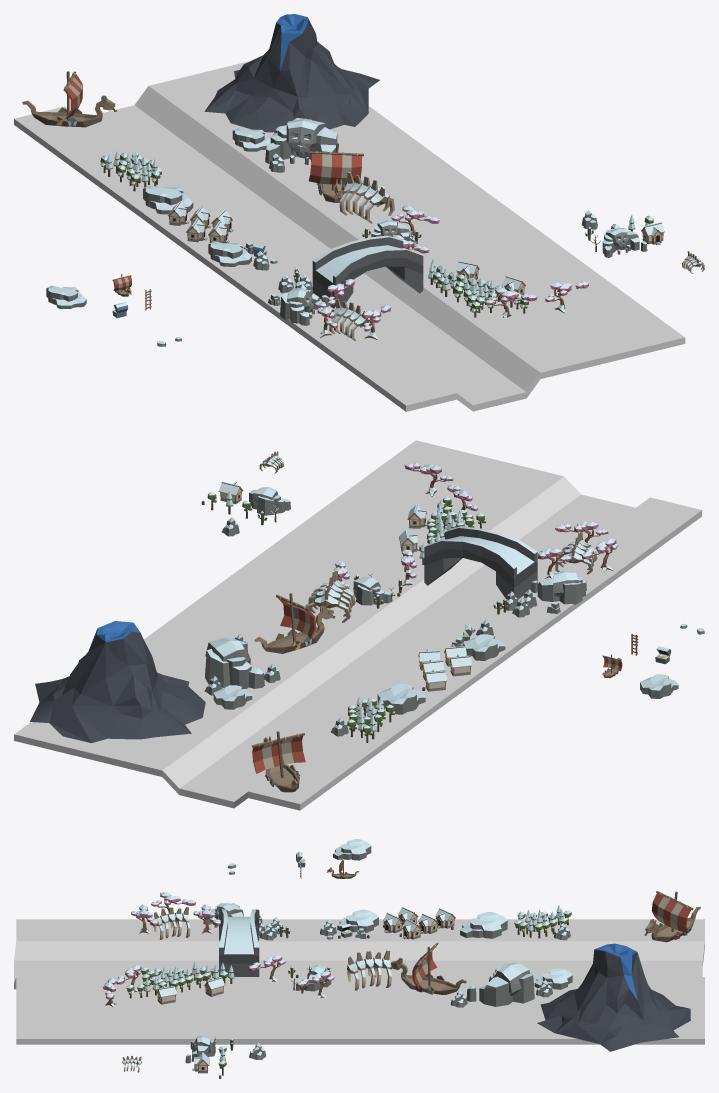
Rendered from chi menn.fbx.
3 renders of one model, top to bottom at view 1: azimuth 30°, elevation 25°; view 2: azimuth 150°, elevation 25°; view 3: azimuth 270°, elevation 25°, orthographic. The views are drawn at different scales.
Visible parts, largest first — view 1: 平面, SM_Tile_Hex_Mountain_05_924, SM_Prop_Generic_Bridge_01_Snow_1366, SM_Env_Pirate_SkullRock_01_Snow_1330.002, SM_Prop_Viking_Boat_01_652.001, SM_Prop_Viking_Boat_01_652.002, SM_Env_Dungeon_Bones_01_Snow_1240.002, SM_Env_Pirate_SkullRock_01_Snow_1330.003, SM_Env_Generic_Cliffs_02_Snow_1268.003, SM_Env_Pirate_SkullRock_01_Snow_1330, SM_Env_Dungeon_Bones_01_Snow_1240.001, SM_Env_Generic_Cliffs_02_Snow_1268.001 (+2 smaller); view 2: 平面, SM_Tile_Hex_Mountain_05_924, SM_Prop_Generic_Bridge_01_Snow_1366, SM_Env_Pirate_SkullRock_01_Snow_1330.002, SM_Prop_Viking_Boat_01_652.002, SM_Prop_Viking_Boat_01_652.001, SM_Env_Pirate_SkullRock_01_Snow_1330.003, SM_Env_Dungeon_Bones_01_Snow_1240.002, SM_Env_Generic_Cliffs_02_Snow_1268.003, SM_Env_Pirate_SkullRock_01_Snow_1330, SM_Env_Generic_Cliffs_02_Snow_1268.001, SM_Env_Pirate_SkullRock_01_Snow_1330.001 (+3 smaller); view 3: 平面, SM_Tile_Hex_Mountain_05_924, SM_Prop_Generic_Bridge_01_Snow_1366, SM_Env_Pirate_SkullRock_01_Snow_1330.002, SM_Prop_Viking_Boat_01_652.002, SM_Prop_Viking_Boat_01_652.001, SM_Env_Dungeon_Bones_01_Snow_1240.002, SM_Env_Generic_Cliffs_02_Snow_1268.003, SM_Env_Dungeon_Bones_01_Snow_1240.001, SM_Env_Generic_Cliffs_02_Snow_1268.001, SM_Env_Generic_Cliffs_02_Snow_1268, SM_Env_Generic_Cliffs_02_Snow_1268.002 (+2 smaller).
Part boxes in pixels (x1=…): 平面: x1=14, y1=61, x2=685, y2=411; SM_Tile_Hex_Mountain_05_924: x1=204, y1=14, x2=379, y2=132; SM_Prop_Generic_Bridge_01_Snow_1366: x1=312, y1=235, x2=423, y2=308; SM_Env_Pirate_SkullRock_01_Snow_1330.002: x1=265, y1=118, x2=337, y2=164; SM_Prop_Viking_Boat_01_652.001: x1=308, y1=143, x2=363, y2=202; SM_Prop_Viking_Boat_01_652.002: x1=22, y1=71, x2=116, y2=127; SM_Env_Dungeon_Bones_01_Snow_1240.002: x1=339, y1=172, x2=394, y2=223; SM_Env_Pirate_SkullRock_01_Snow_1330.003: x1=280, y1=288, x2=328, y2=325; SM_Env_Generic_Cliffs_02_Snow_1268.003: x1=143, y1=185, x2=193, y2=214; SM_Env_Pirate_SkullRock_01_Snow_1330: x1=602, y1=228, x2=647, y2=257; SM_Env_Dungeon_Bones_01_Snow_1240.001: x1=329, y1=298, x2=374, y2=340; SM_Env_Generic_Cliffs_02_Snow_1268.001: x1=208, y1=241, x2=251, y2=266; 平面: x1=14, y1=440, x2=702, y2=810; SM_Tile_Hex_Mountain_05_924: x1=30, y1=621, x2=205, y2=743; SM_Prop_Generic_Bridge_01_Snow_1366: x1=424, y1=526, x2=537, y2=599; SM_Env_Pirate_SkullRock_01_Snow_1330.002: x1=205, y1=637, x2=264, y2=688; SM_Prop_Viking_Boat_01_652.002: x1=252, y1=731, x2=305, y2=792; SM_Prop_Viking_Boat_01_652.001: x1=254, y1=593, x2=335, y2=653; SM_Env_Pirate_SkullRock_01_Snow_1330.003: x1=530, y1=570, x2=586, y2=604; SM_Env_Dungeon_Bones_01_Snow_1240.002: x1=305, y1=571, x2=355, y2=622; SM_Env_Generic_Cliffs_02_Snow_1268.003: x1=377, y1=684, x2=425, y2=714; SM_Env_Pirate_SkullRock_01_Snow_1330: x1=249, y1=487, x2=290, y2=515; SM_Env_Generic_Cliffs_02_Snow_1268.001: x1=463, y1=634, x2=505, y2=660; SM_Env_Pirate_SkullRock_01_Snow_1330.001: x1=353, y1=577, x2=391, y2=605; 平面: x1=14, y1=919, x2=704, y2=1044; SM_Tile_Hex_Mountain_05_924: x1=537, y1=943, x2=690, y2=1051; SM_Prop_Generic_Bridge_01_Snow_1366: x1=219, y1=909, x2=259, y2=976; SM_Env_Pirate_SkullRock_01_Snow_1330.002: x1=466, y1=963, x2=534, y2=1006; SM_Prop_Viking_Boat_01_652.002: x1=644, y1=891, x2=700, y2=942; SM_Prop_Viking_Boat_01_652.001: x1=390, y1=942, x2=466, y2=994; SM_Env_Dungeon_Bones_01_Snow_1240.002: x1=347, y1=950, x2=391, y2=990; SM_Env_Generic_Cliffs_02_Snow_1268.003: x1=460, y1=912, x2=507, y2=938; SM_Env_Dungeon_Bones_01_Snow_1240.001: x1=153, y1=906, x2=190, y2=939; SM_Env_Generic_Cliffs_02_Snow_1268.001: x1=337, y1=909, x2=378, y2=932; SM_Env_Generic_Cliffs_02_Snow_1268: x1=333, y1=839, x2=371, y2=860; SM_Env_Generic_Cliffs_02_Snow_1268.002: x1=534, y1=968, x2=572, y2=989.
Bounding box in the file's own units: 3162 × 568 × 4027.
